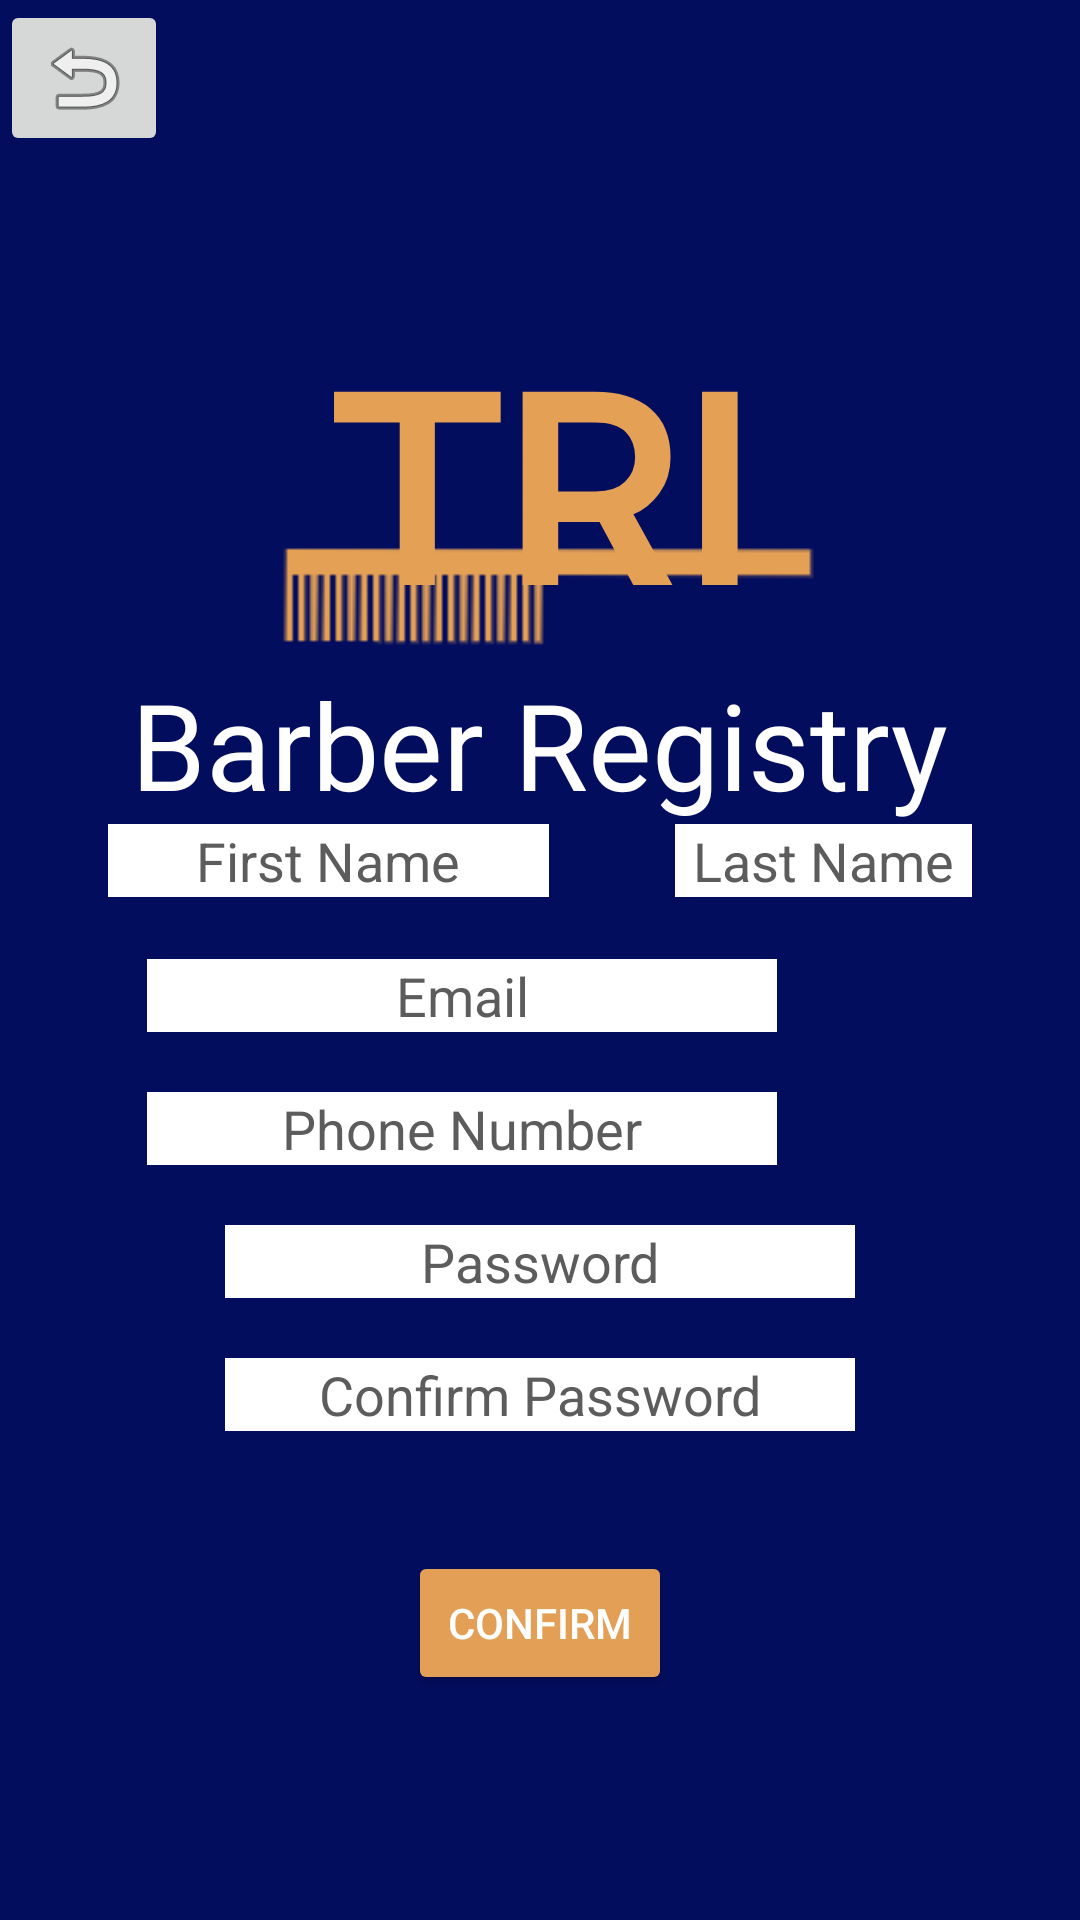

Named icons in this screenshot (1080x1920) and their bounding boxes, (x1, y1, x2, y2):
revert: (12, 18, 156, 138)
